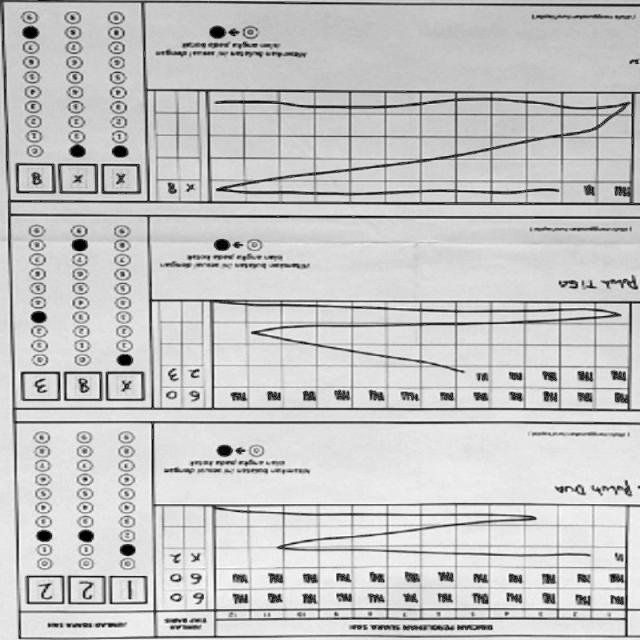Suara: (10, 162, 149, 203), (19, 368, 149, 407), (26, 576, 152, 612)
